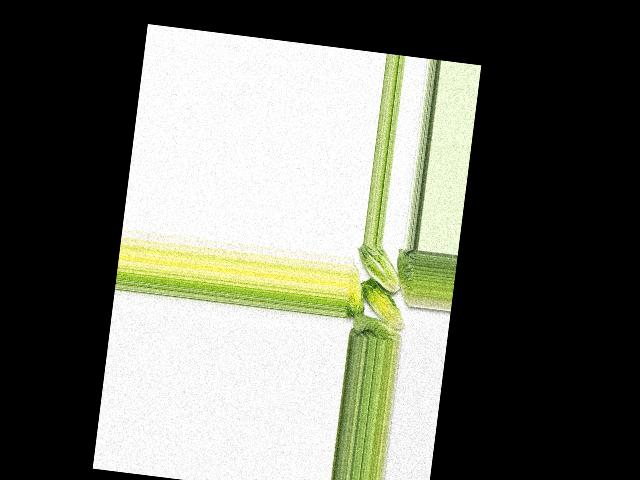lettuce: (348, 311, 403, 343)
